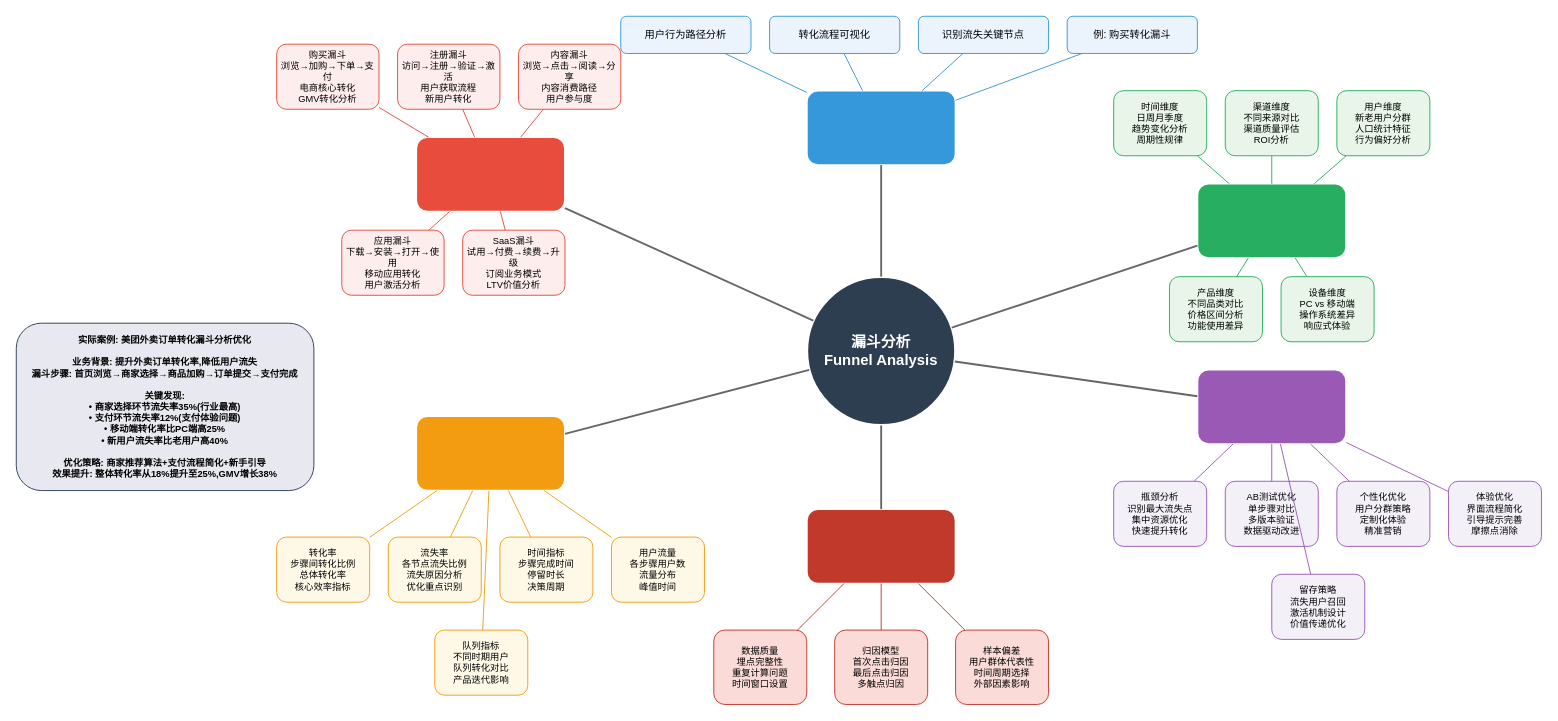
The diagram is 1558 pixels wide and 721 high, and some of its shapes have lost their labels. Each missing label, with the centre of its shape:
"什么是漏斗分析" goes at (880,127).
"优化策略" goes at (1271,406).
"关键指标" goes at (490,453).
"分析维度" goes at (1271,220).
"注意事项" goes at (880,546).
"漏斗类型" goes at (490,174).
